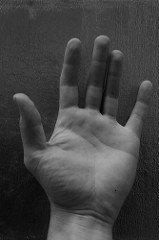palm: (44, 104, 139, 214)
